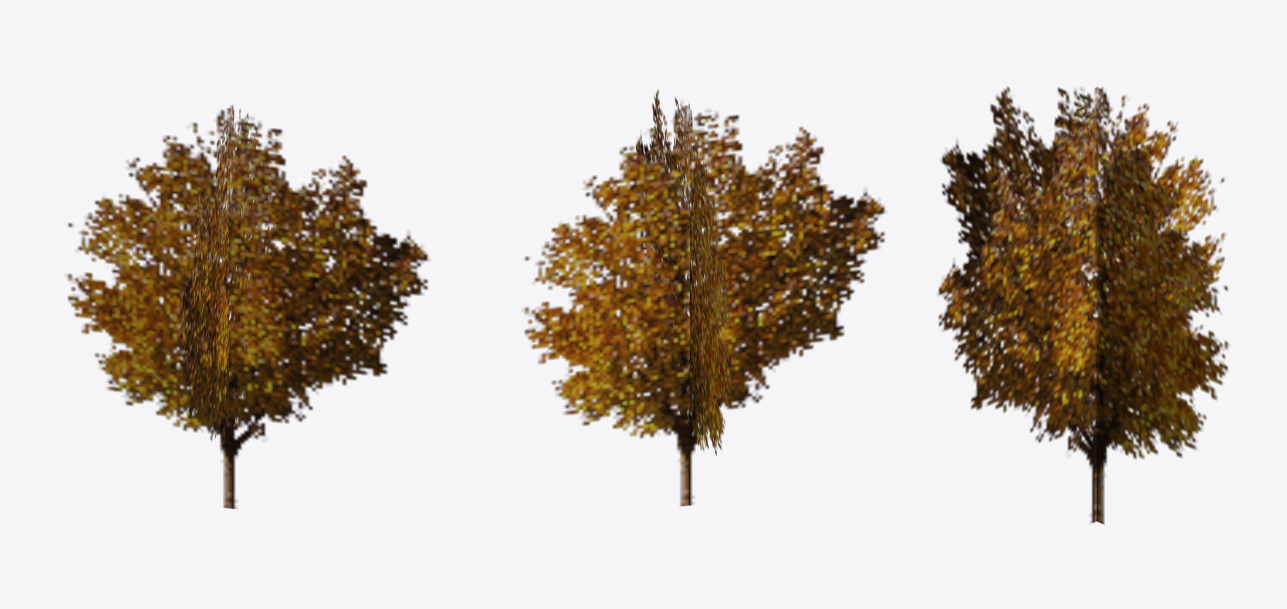
File: tree017.glb
3 renders of one model, left to right at view 1: azimuth 30°, elevation 25°; view 2: azimuth 150°, elevation 25°; view 3: azimuth 270°, elevation 25°, orthographic. The views are drawn at different scales.
Parts seen in each view (by area): view 1: tree017; view 2: tree017; view 3: tree017.
Boxes of the visible parts, bbox=[...] form: tree017: bbox=[66, 105, 429, 508]; tree017: bbox=[523, 89, 886, 506]; tree017: bbox=[937, 86, 1229, 524].
Size of the model in its own units: 2.17 by 3.1 by 2.17.
Materials: 1 (1 with a texture image).
